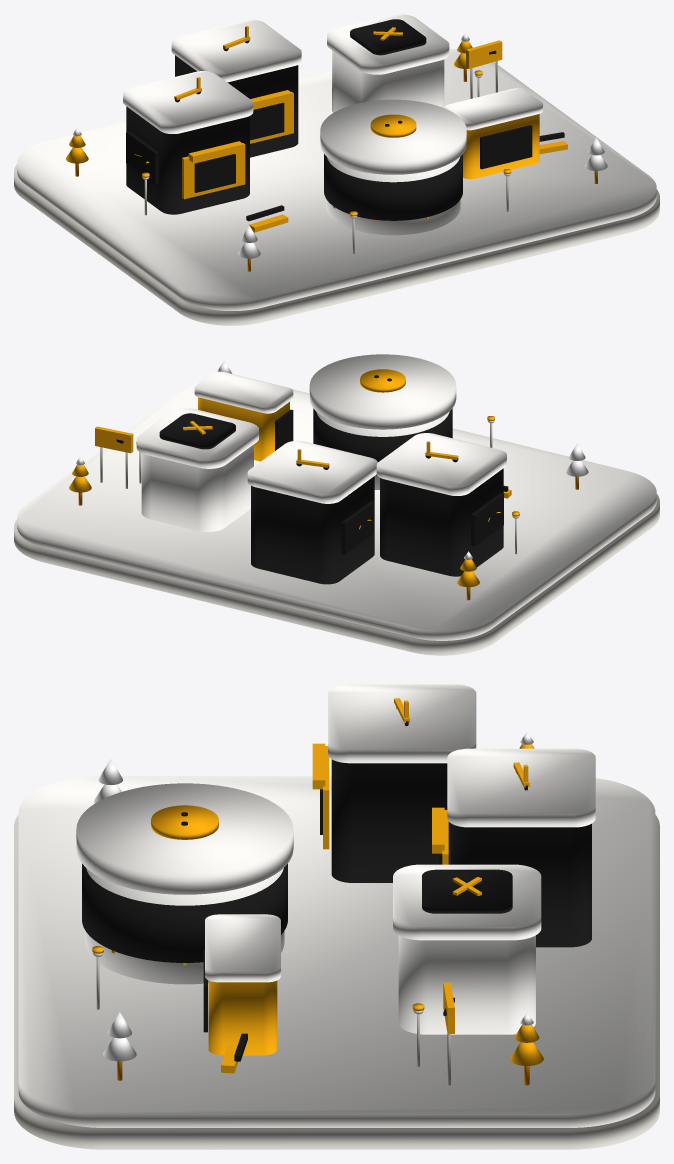
File: zona_juvenil.glb
3 renders of one model, top to bottom at view 1: azimuth 30°, elevation 25°; view 2: azimuth 150°, elevation 25°; view 3: azimuth 270°, elevation 25°, orthographic. The views are drawn at different scales.
Visible parts, largest first — view 1: juvenile platform top, juvenile platform side, white smile hub roof, left youth store main body, black glass ring smile hub, left youth store white roof cap, rear youth store white roof cap, rounded interactive kiosk body, kiosk roof cap, round juvenile smile hub body, rear youth store main body, tiny kiosk white roof edge (+11 smaller); view 2: juvenile platform top, juvenile platform side, rear youth store main body, left youth store main body, white smile hub roof, rounded interactive kiosk body, left youth store white roof cap, rear youth store white roof cap, kiosk roof cap, tiny kiosk white roof edge, black glass ring smile hub, tiny yellow experience kiosk (+7 smaller); view 3: juvenile platform top, white smile hub roof, juvenile platform side, left youth store main body, rounded interactive kiosk body, rear youth store white roof cap, left youth store white roof cap, rear youth store main body, black glass ring smile hub, kiosk roof cap, tiny kiosk white roof edge, tiny yellow experience kiosk (+3 smaller).
Part boxes in pixels (<box>): juvenile platform top: <box>17,48,656,310</box>; juvenile platform side: <box>14,164,659,325</box>; white smile hub roof: <box>320,99,466,174</box>; left youth store main body: <box>126,106,249,214</box>; black glass ring smile hub: <box>324,154,462,220</box>; left youth store white roof cap: <box>123,71,253,133</box>; rear youth store white roof cap: <box>171,19,301,82</box>; rounded interactive kiosk body: <box>332,50,444,112</box>; kiosk roof cap: <box>327,14,449,74</box>; round juvenile smile hub body: <box>326,157,460,235</box>; rear youth store main body: <box>175,55,298,157</box>; tiny kiosk white roof edge: <box>444,88,542,130</box>; juvenile platform top: <box>17,382,656,640</box>; juvenile platform side: <box>14,494,659,655</box>; rear youth store main body: <box>251,476,374,584</box>; left youth store main body: <box>380,468,503,576</box>; white smile hub roof: <box>309,354,456,429</box>; rounded interactive kiosk body: <box>141,444,253,531</box>; left youth store white roof cap: <box>376,433,506,495</box>; rear youth store white roof cap: <box>247,440,377,503</box>; kiosk roof cap: <box>136,408,258,468</box>; tiny kiosk white roof edge: <box>194,371,293,413</box>; black glass ring smile hub: <box>313,408,452,475</box>; tiny yellow experience kiosk: <box>198,397,289,461</box>; juvenile platform top: <box>18,776,655,1127</box>; white smile hub roof: <box>76,783,293,894</box>; juvenile platform side: <box>14,815,659,1149</box>; left youth store main body: <box>331,759,450,882</box>; rounded interactive kiosk body: <box>398,935,535,1034</box>; rear youth store white roof cap: <box>447,748,595,827</box>; left youth store white roof cap: <box>328,684,476,763</box>; rear youth store main body: <box>451,823,591,947</box>; black glass ring smile hub: <box>82,863,287,962</box>; kiosk roof cap: <box>393,864,541,940</box>; tiny kiosk white roof edge: <box>205,914,280,982</box>; tiny yellow experience kiosk: <box>208,980,277,1055</box>.
Bounding box in the file's own units: 4.47 × 1.21 × 3.57.
